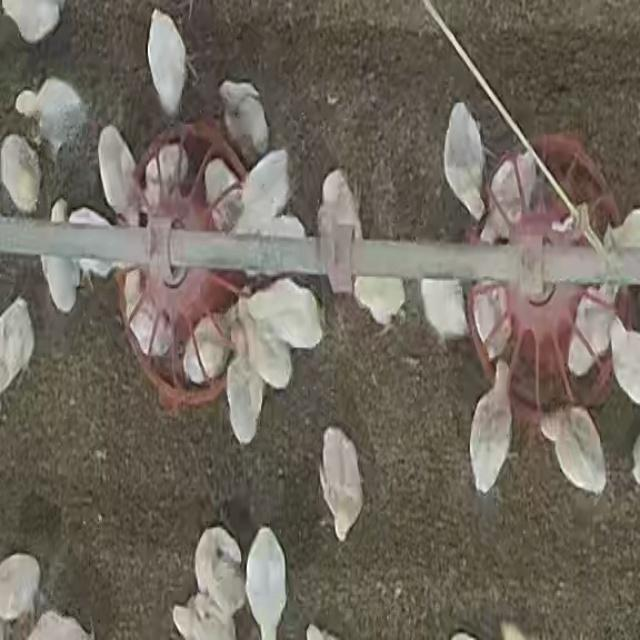chicken: (143, 6, 200, 117), (478, 145, 542, 243), (544, 403, 612, 495), (468, 362, 514, 495), (17, 73, 89, 156), (439, 97, 487, 219), (229, 149, 293, 236), (318, 427, 364, 542), (251, 281, 327, 349), (237, 297, 290, 392), (247, 524, 288, 640), (192, 526, 242, 618), (40, 200, 80, 312), (574, 282, 618, 380), (96, 124, 138, 223), (218, 80, 268, 162), (0, 296, 35, 405), (121, 272, 165, 356), (184, 313, 232, 388), (225, 349, 262, 443), (421, 278, 471, 345), (0, 134, 41, 214), (610, 314, 640, 410), (470, 283, 508, 358), (3, 1, 64, 46)
